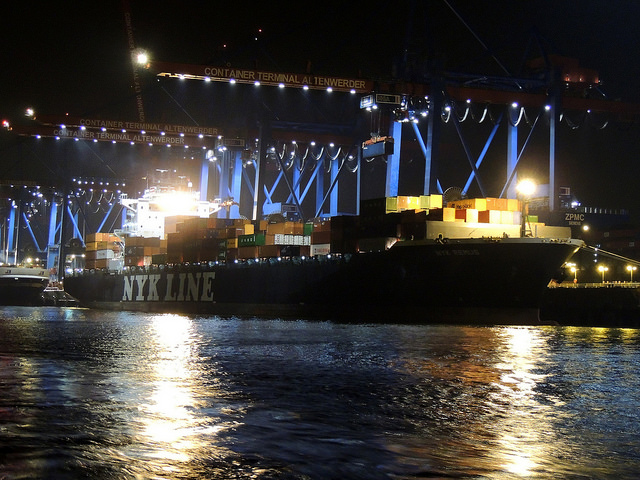container_ship: (62, 178, 579, 324)
